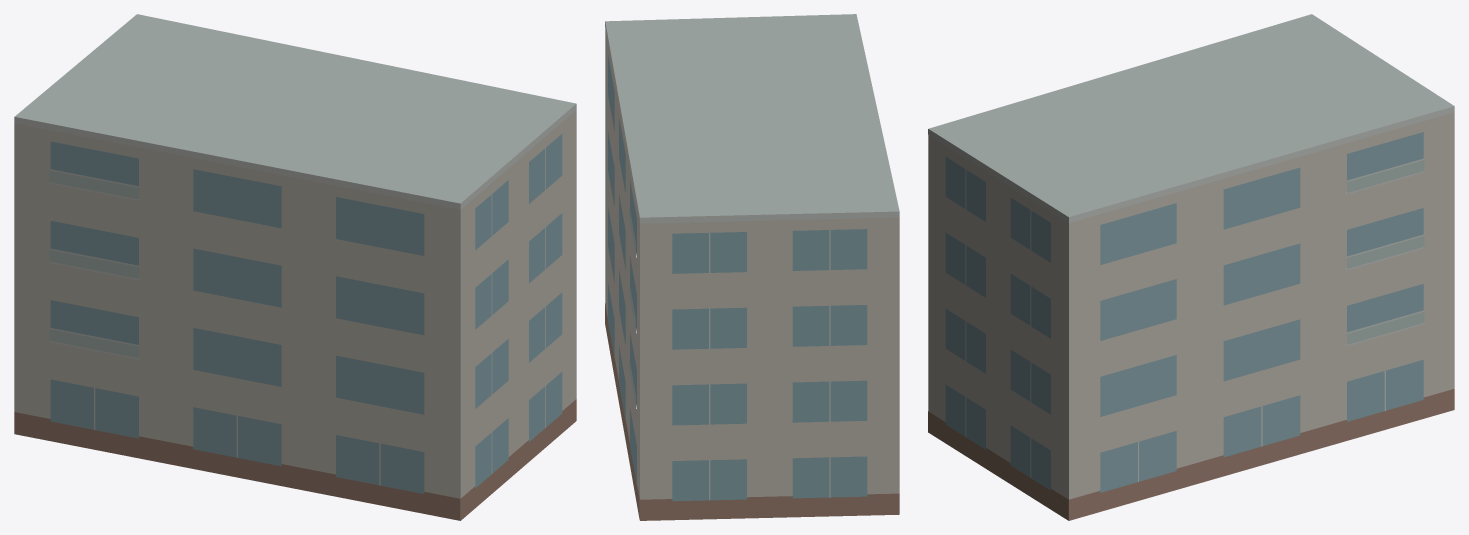
The model's file is survey-upis-32527814.glb.
3 views of the same model, side by side, from view 1: azimuth 30°, elevation 25°; view 2: azimuth 150°, elevation 25°; view 3: azimuth 270°, elevation 25° (orthographic). The views are drawn at different scales.
Parts seen in each view (by area): view 1: survey-upis-32527814.tmp; view 2: survey-upis-32527814.tmp; view 3: survey-upis-32527814.tmp.
Boxes of the visible parts, x1=… form: survey-upis-32527814.tmp: x1=14, y1=14, x2=576, y2=520; survey-upis-32527814.tmp: x1=605, y1=14, x2=899, y2=520; survey-upis-32527814.tmp: x1=928, y1=14, x2=1454, y2=520.
Size of the model in its own units: 17.66 by 12.3 by 19.34.
